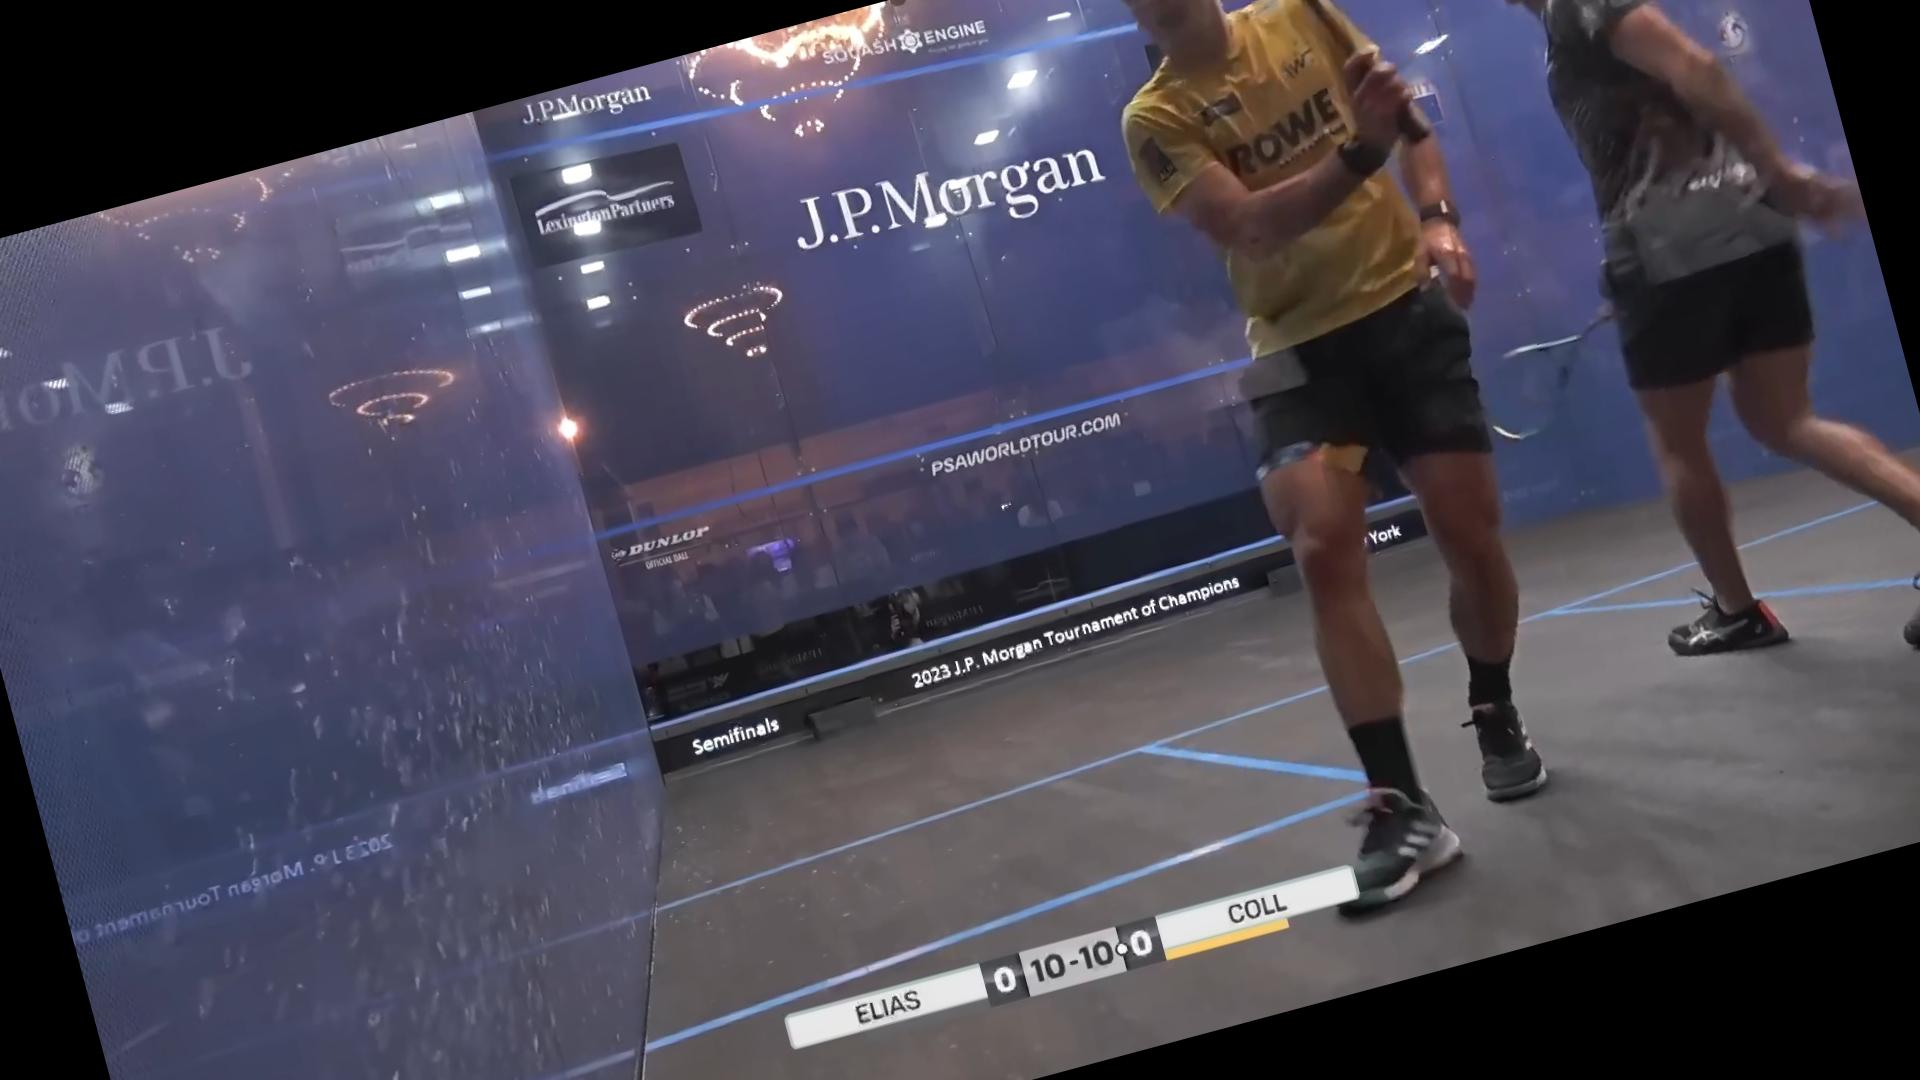Racket: (1199, 0, 1445, 190), (1466, 306, 1636, 454)
